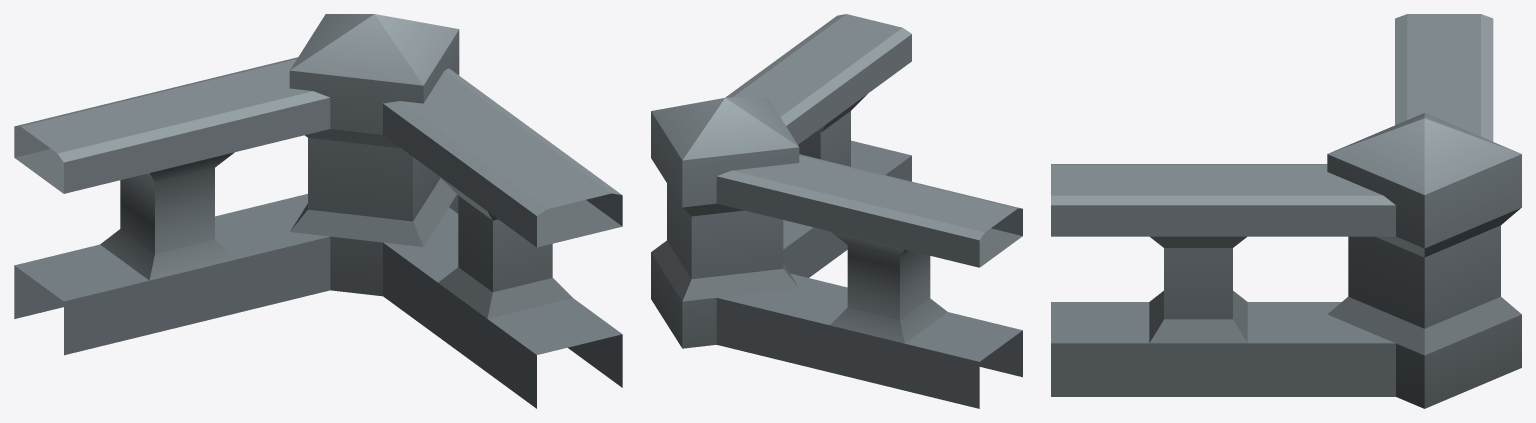
File: barrier_corner.obj
The picture shows the model from 3 angles, left to right: view 1: azimuth 30°, elevation 25°; view 2: azimuth 150°, elevation 25°; view 3: azimuth 270°, elevation 25°; orthographic projection. The views are drawn at different scales.
Visible parts, largest first — view 1: barrier_corner; view 2: barrier_corner; view 3: barrier_corner.
Boxes of the visible parts, x1=… form: barrier_corner: x1=14, y1=14, x2=622, y2=408; barrier_corner: x1=651, y1=14, x2=1022, y2=408; barrier_corner: x1=1051, y1=14, x2=1521, y2=408.
Size of the model in its own units: 2.39 by 1.4 by 2.39.
1 material, 1 textured.
